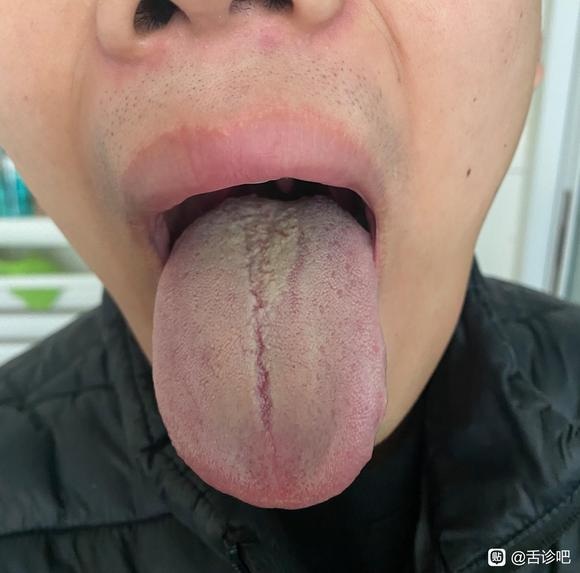huangtaishe: (151, 194, 388, 510)
liewenshe: (240, 224, 272, 438)
